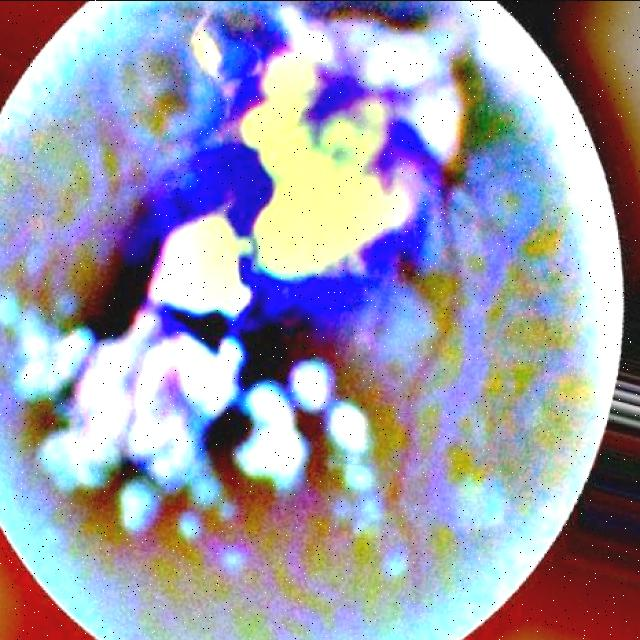Nerves: (383, 174, 463, 500)
Optic Disk: (327, 14, 457, 161)
